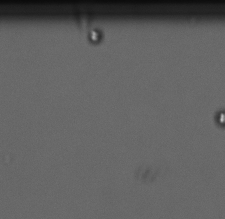Living Cell: (86, 27, 103, 44)
